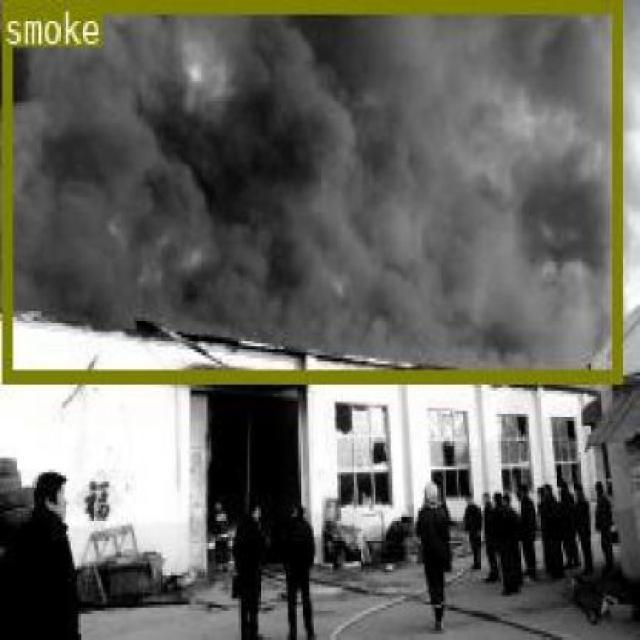Smoke: (0, 0, 617, 314)
